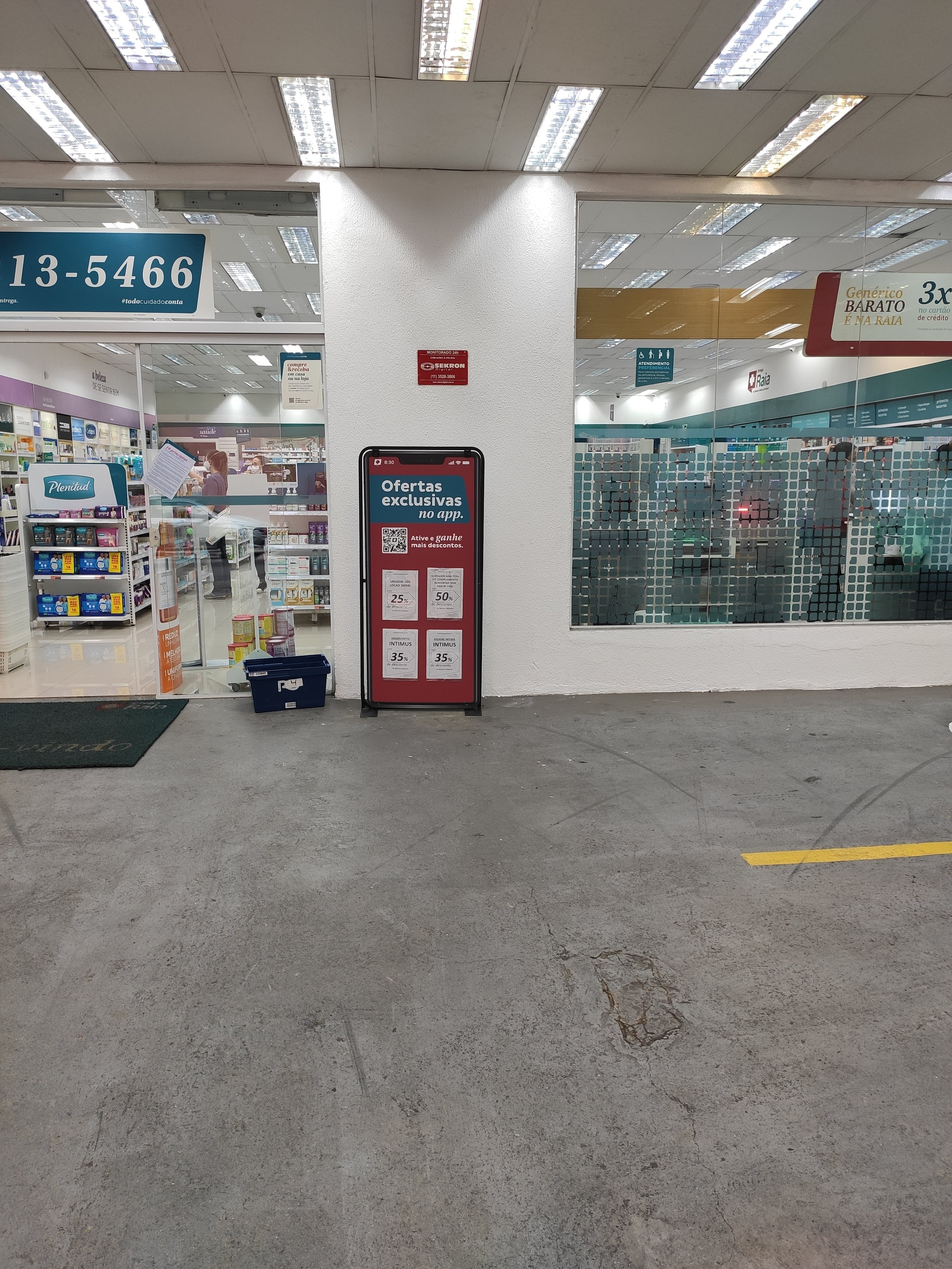QR-CODE: (383, 529, 406, 552)
